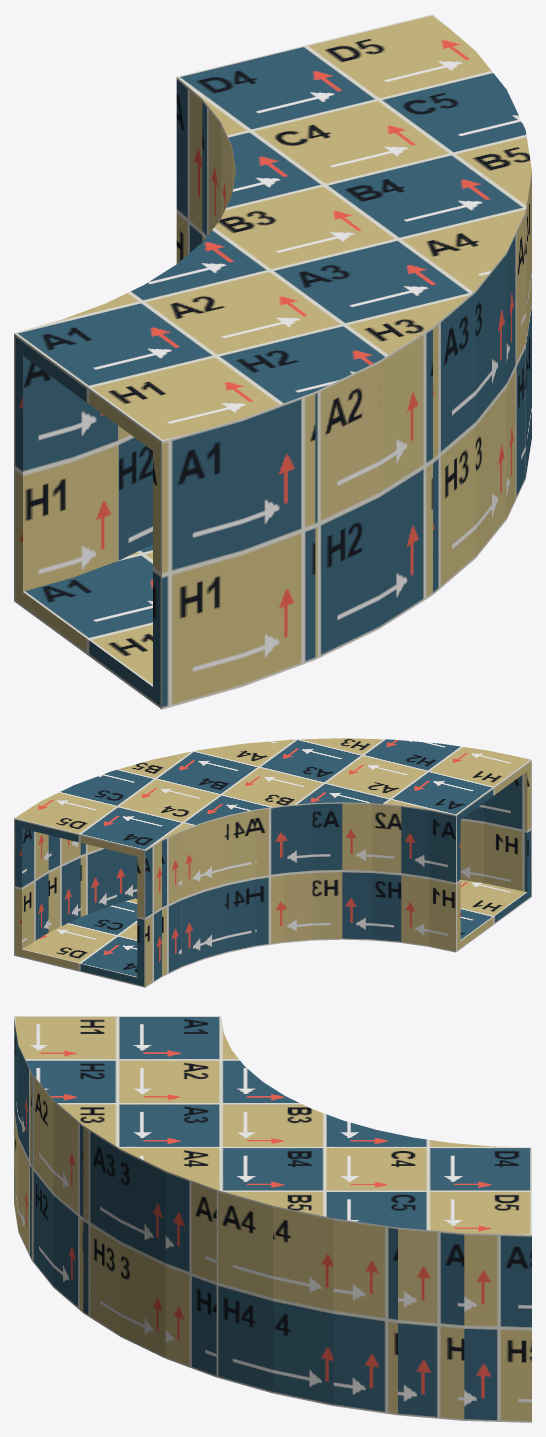
The model's file is DUCT_Elbow90.fbx.
3 renders of one model, top to bottom at view 1: azimuth 30°, elevation 25°; view 2: azimuth 150°, elevation 25°; view 3: azimuth 270°, elevation 25°, orthographic. The views are drawn at different scales.
Visible parts, largest first — view 1: DUCT_Elbow90; view 2: DUCT_Elbow90; view 3: DUCT_Elbow90.
Part boxes in pixels (x1,y1,x2,y2): DUCT_Elbow90: [14, 14, 531, 709]; DUCT_Elbow90: [14, 738, 531, 987]; DUCT_Elbow90: [14, 1016, 531, 1422].
Size of the model in its own units: 125 by 50 by 125.
Materials: 1 (1 with a texture image).
